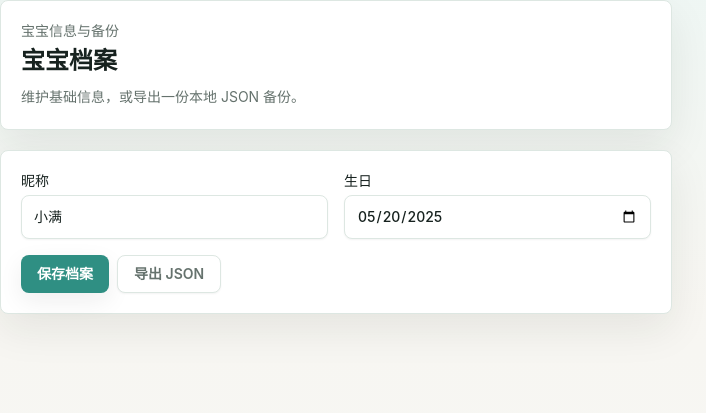
Test case: ProfilePage › shows Chinese status messages when save or export fails
Click the button "保存档案" at (65, 274), box x1=21 y1=255 x2=109 y2=293
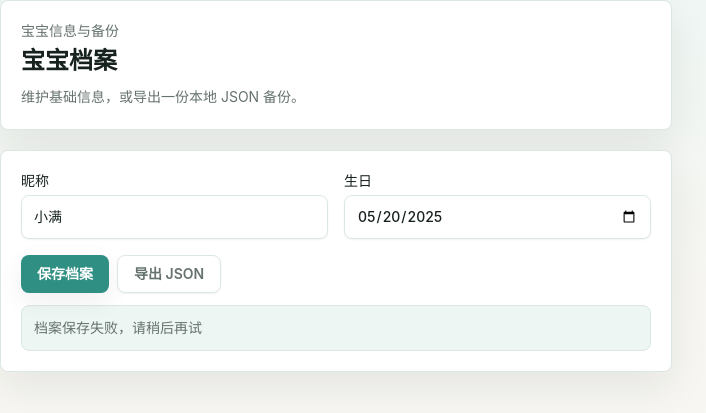
Result: the text "档案保存失败，请稍后再试" is shown at x1=21 y1=305 x2=651 y2=351
Click the button "导出 JSON" at (169, 274), box x1=117 y1=255 x2=221 y2=293
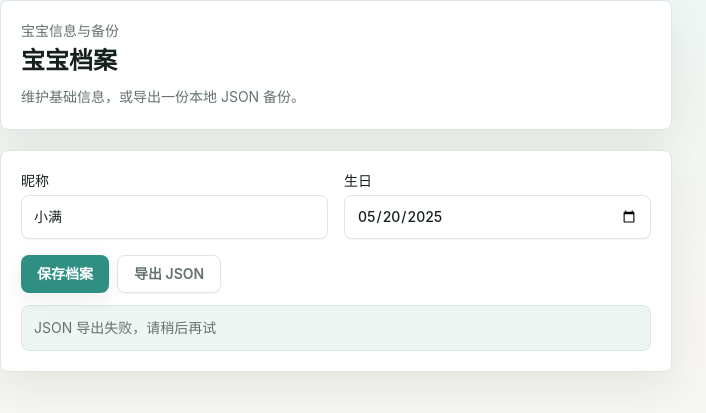
Result: the text "JSON 导出失败，请稍后再试" is shown at x1=21 y1=305 x2=651 y2=351
